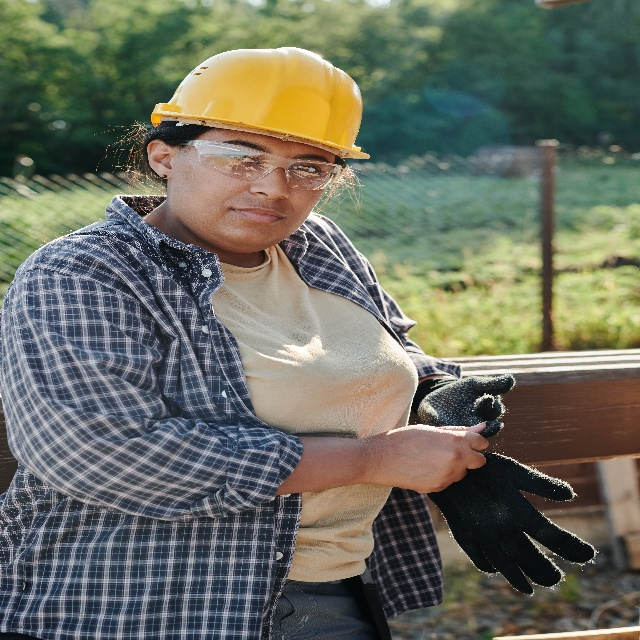Gafas: (179, 135, 339, 197)
Guantes: (434, 456, 596, 605), (421, 359, 517, 435)
Sin_guantes: (361, 427, 490, 500)
